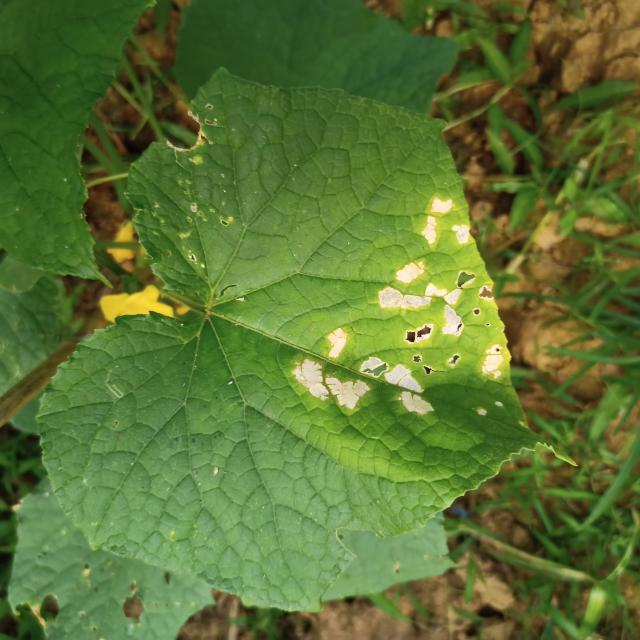disease_cucumber: (284, 193, 508, 449)
